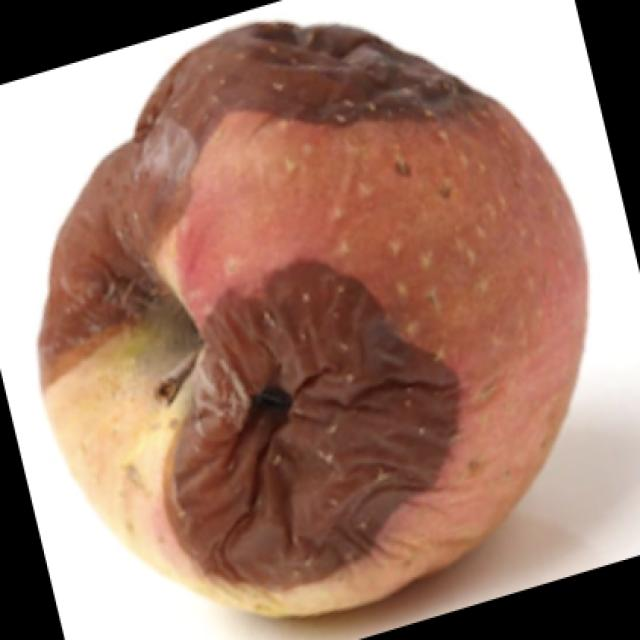organik: (54, 0, 581, 640)
